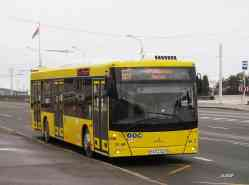bus: (28, 56, 200, 158)
